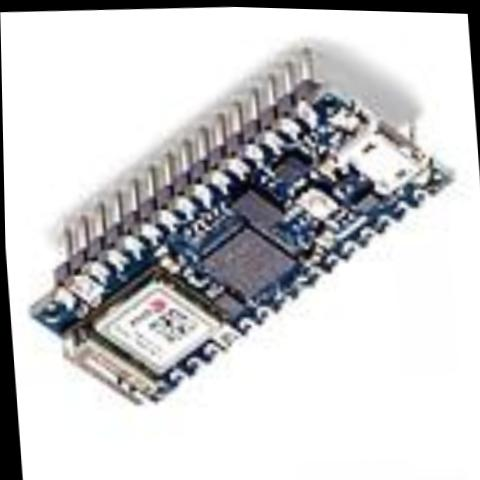Arduino-Nano: (0, 19, 478, 428)
